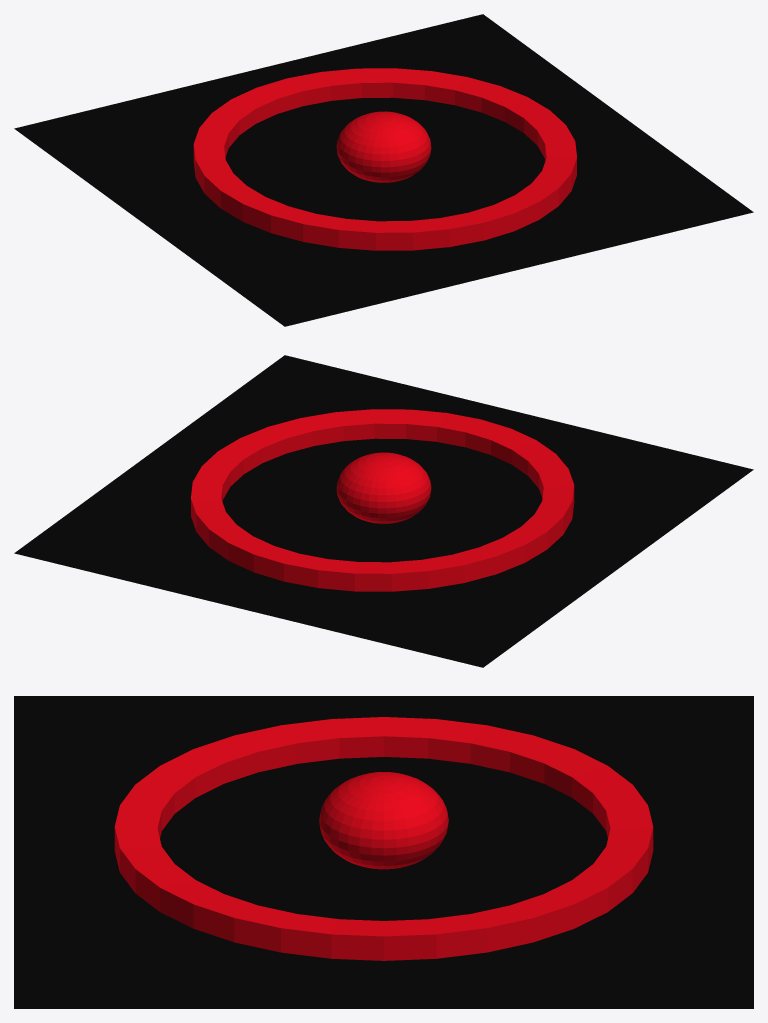
The model's file is Figura4.fbx.
3 views of the same model, one above another, from view 1: azimuth 30°, elevation 25°; view 2: azimuth 150°, elevation 25°; view 3: azimuth 270°, elevation 25° (orthographic). The views are drawn at different scales.
Parts seen in each view (by area): view 1: Cylinder.002; view 2: Cylinder.002; view 3: Cylinder.002.
Boxes of the visible parts, <box> form: Cylinder.002: <box>14,14,753,326</box>; Cylinder.002: <box>14,355,753,667</box>; Cylinder.002: <box>14,696,753,1008</box>.
Size of the model in its own units: 257 by 31.05 by 257.
